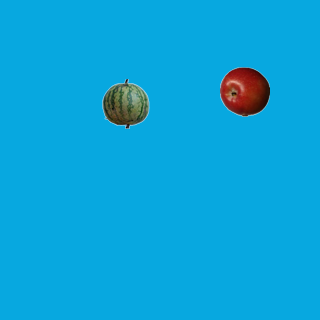Apple Braeburn: (219, 66, 269, 116)
Watermelon: (100, 78, 150, 128)
